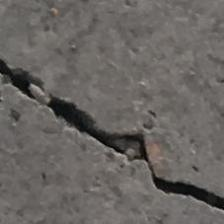Crack: (0, 52, 224, 218)
